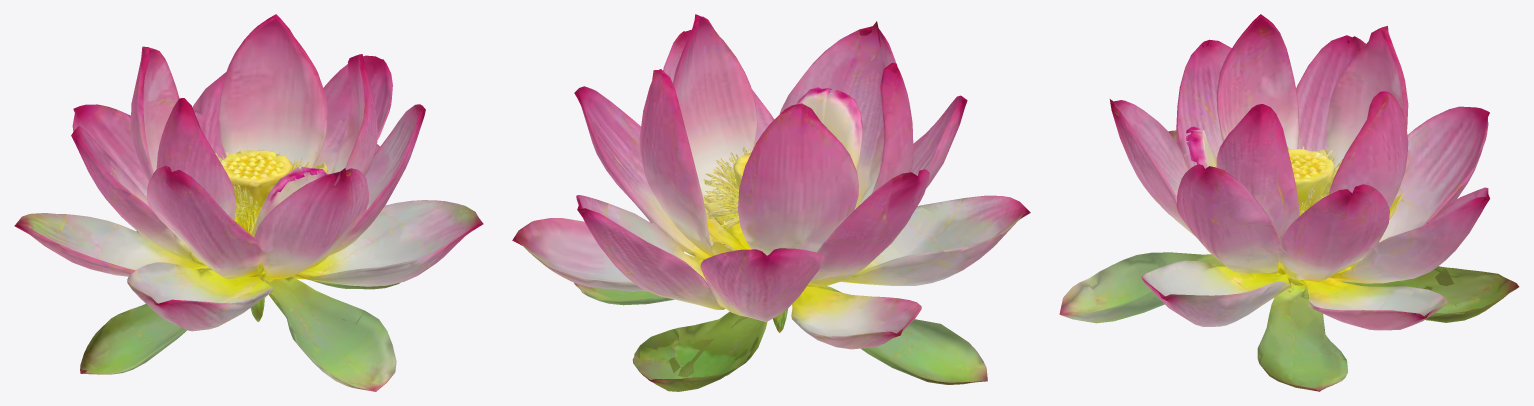
File: flower.glb
3 views of the same model, side by side, from view 1: azimuth 30°, elevation 25°; view 2: azimuth 150°, elevation 25°; view 3: azimuth 270°, elevation 25° (orthographic). The views are drawn at different scales.
Visible parts, largest first — view 1: mesh_node; view 2: mesh_node; view 3: mesh_node.
Part boxes in pixels (box(x1,y1,x2,y2)): mesh_node: box(14, 14, 483, 391); mesh_node: box(512, 14, 1030, 391); mesh_node: box(1059, 14, 1519, 391).
Size of the model in its own units: 1.75 by 1.23 by 1.9.
1 material, 1 textured.
